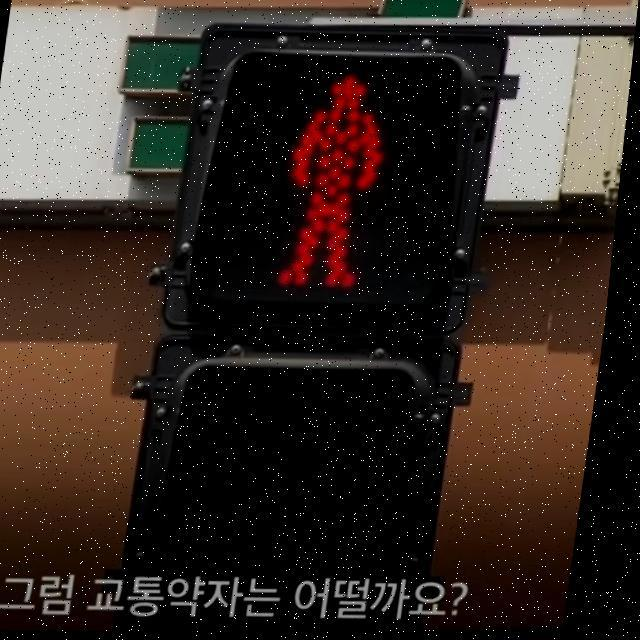red_light: (196, 49, 475, 314)
